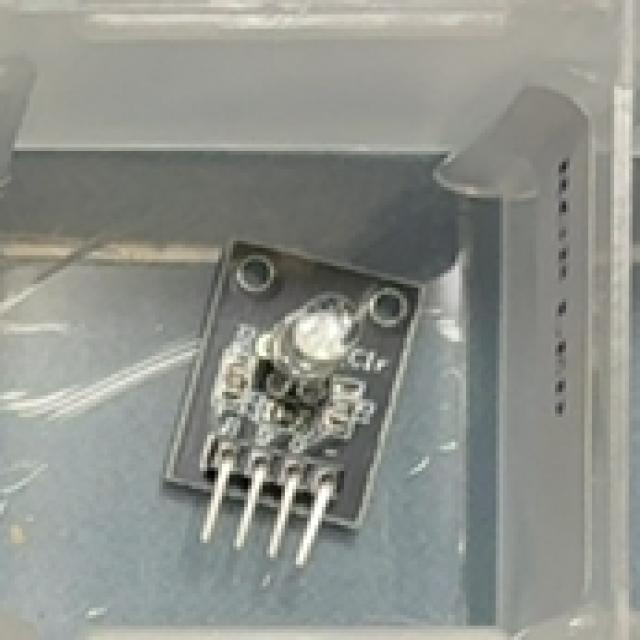RGB LED: (152, 237, 424, 561)
